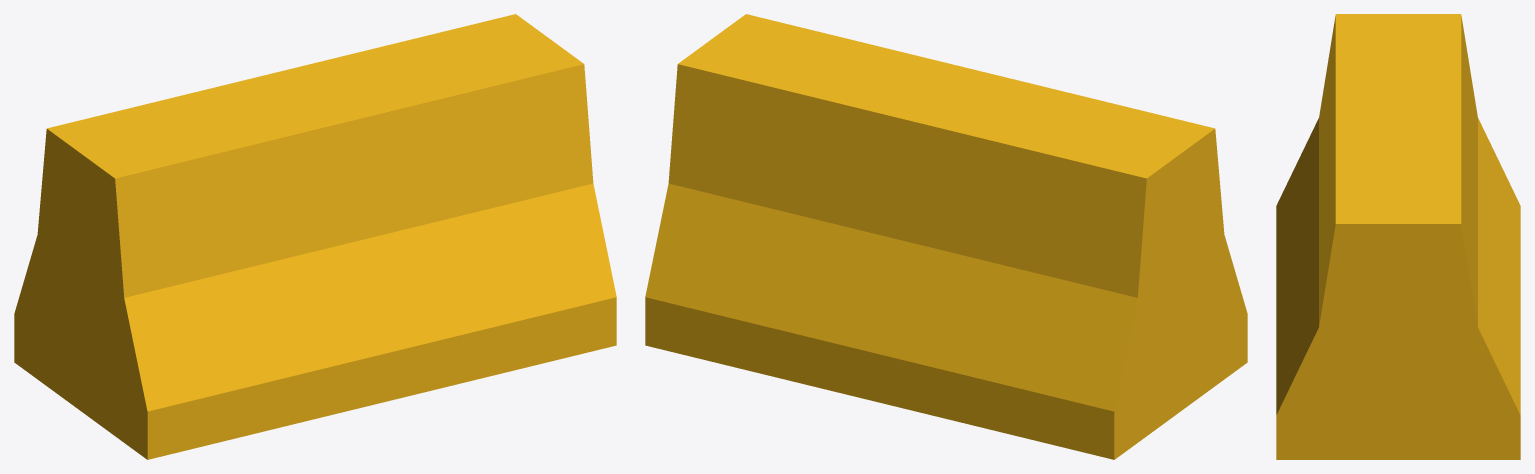
The model's file is barrier.glb.
The picture shows the model from 3 angles, left to right: view 1: azimuth 30°, elevation 25°; view 2: azimuth 150°, elevation 25°; view 3: azimuth 270°, elevation 25°; orthographic projection. The views are drawn at different scales.
Visible parts, largest first — view 1: barrierRed(Clone); view 2: barrierRed(Clone); view 3: barrierRed(Clone).
Boxes of the visible parts, box(x1,y1,x2,y2) form: barrierRed(Clone): box(14, 14, 616, 459); barrierRed(Clone): box(645, 14, 1247, 459); barrierRed(Clone): box(1276, 14, 1520, 459).
Size of the model in its own units: 0.25 by 0.1312 by 0.123.
